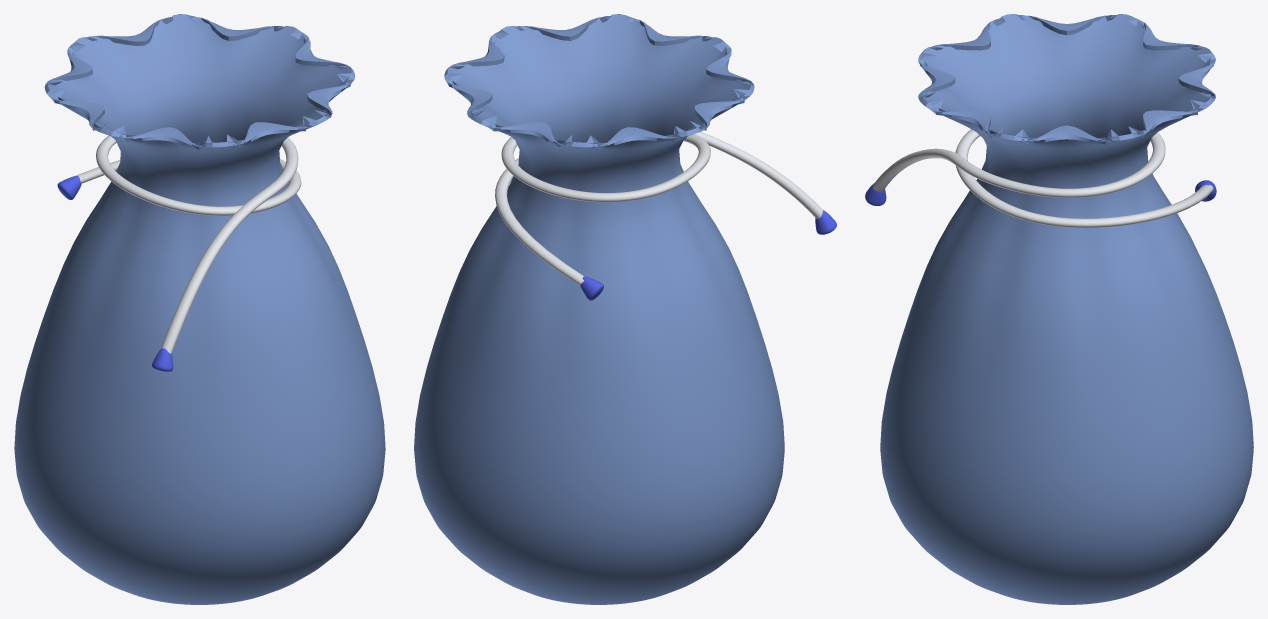
File: pocket.fbx
The picture shows the model from 3 angles, left to right: view 1: azimuth 30°, elevation 25°; view 2: azimuth 150°, elevation 25°; view 3: azimuth 270°, elevation 25°; orthographic projection.
Visible parts, largest first — view 1: Pocket, Strip; view 2: Pocket, Strip; view 3: Pocket, Strip.
Boxes of the visible parts, x1=… form: Pocket: x1=14, y1=14, x2=385, y2=604; Strip: x1=75, y1=135, x2=301, y2=353; Pocket: x1=414, y1=14, x2=784, y2=604; Strip: x1=495, y1=132, x2=822, y2=285; Pocket: x1=880, y1=14, x2=1253, y2=604; Strip: x1=872, y1=129, x2=1213, y2=227.
Bounding box in the file's own units: 387 × 574 × 403.
